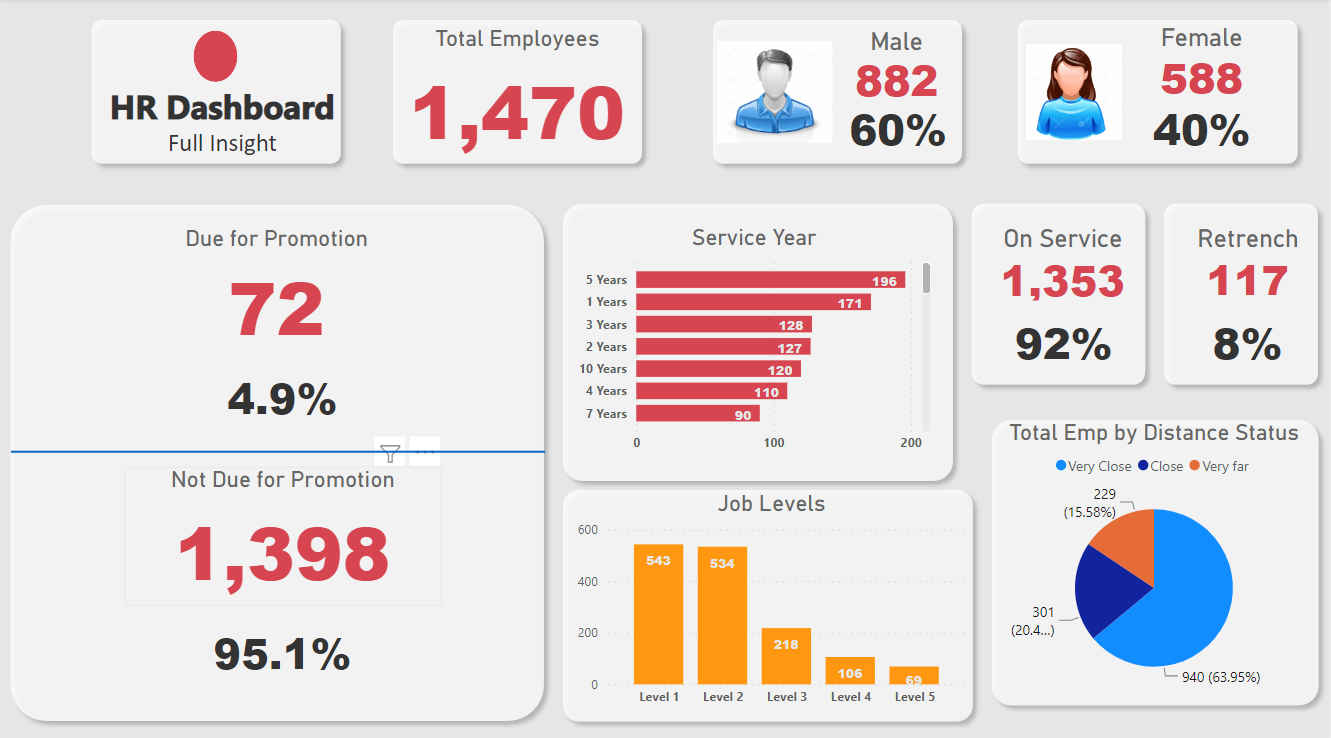

This screenshot's page, from the dashboard's own definition file:
{"tool":"powerbi","page":{"name":"Home","canvas":[1280,720],"ordinal":0},"visuals":[{"type":"shape","box":[78.4,12.1,258.1,156.8],"z":1000},{"type":"shape","box":[369,12.1,258.1,156.8],"z":2000},{"type":"shape","box":[677.8,12.1,258.1,156.8],"z":3000},{"type":"shape","box":[972.1,12.1,288.2,156.8],"z":4000},{"type":"shape","box":[0,190.6,533.1,516.2],"z":5000},{"type":"shape","box":[533.1,189.3,394.4,285.8],"z":6000},{"type":"shape","box":[533.1,465.5,413.7,241.2],"z":7000},{"type":"shape","box":[927.4,189.3,185.7,193],"z":8000},{"type":"shape","box":[946.3,398.3,333.7,293.9],"z":9000},{"type":"shape","box":[1113.2,189.3,166.4,193],"z":10000},{"type":"textbox","box":[90.5,77.2,246,82],"z":11000},{"type":"shape","box":[185.7,31.4,42.2,49.4],"z":12000},{"type":"card","title":"Total Employees","fields":{"Values":["All Measures.Total Emp"]},"box":[375.1,26.5,246,132.7],"z":13000},{"type":"card","title":"Male","fields":{"Values":["All Measures.Male"]},"box":[800.8,27.7,126.6,73.6],"z":14000},{"type":"card","title":"Male","fields":{"Values":["All Measures.%male"]},"box":[810.5,92.9,109.7,66.3],"z":15000},{"type":"card","title":"Female","fields":{"Values":["All Measures.Female"]},"box":[1095.1,24.1,126.6,77.2],"z":16000},{"type":"card","title":"Male","fields":{"Values":["All Measures.%female"]},"box":[1095.1,96.5,126.6,59.1],"z":17000},{"type":"image","box":[686.2,31.4,120.6,119.4],"z":18000},{"type":"image","box":[974.5,39.8,120.6,102.5],"z":19000},{"type":"card","title":"Male","fields":{"Values":["All Measures.%Due for promotion"]},"box":[185.7,332.9,172.5,104.9],"z":20000},{"type":"card","title":"Due for Promotion","fields":{"Values":["All Measures.Due for promotion"]},"box":[113.4,219.5,305.1,125.4],"z":21000},{"type":"card","title":"Not Due for Promotion","fields":{"Values":["All Measures.Not Due"]},"box":[119.4,452.3,305.1,133.9],"z":22000},{"type":"card","title":"Male","fields":{"Values":["All Measures.%Not due"]},"box":[185.7,569.2,172.5,123],"z":23000},{"type":"shape","box":[9.6,431.8,515,12.1],"z":24000},{"type":"barChart","title":"Service Year","fields":{"Category":["HR Analytics Data.Service Years"],"Y":["All Measures.Total Emp"]},"box":[551.2,218.3,351,229.1],"z":25000},{"type":"columnChart","title":"Job Levels","fields":{"Category":["HR Analytics Data.Job Levels"],"Y":["All Measures.Total Emp"]},"box":[551.2,475.2,384.7,217.1],"z":26000},{"type":"card","title":"On Service","fields":{"Values":["All Measures.On Service"]},"box":[949.1,218.3,141.1,78.4],"z":27000},{"type":"card","title":"Male","fields":{"Values":["All Measures.%on service"]},"box":[962.4,303.9,125.4,57.9],"z":28000},{"type":"card","title":"Retrench","fields":{"Values":["All Measures.Will be retreanched"]},"box":[1132.5,218.3,141.1,77.2],"z":29000},{"type":"card","title":"Male","fields":{"Values":["All Measures.%will be retreanched"]},"box":[1139.7,303.9,125.4,57.9],"z":30000},{"type":"pieChart","fields":{"Category":["HR Analytics Data.Distance Status"],"Y":["All Measures.Total Emp"]},"box":[962.4,406.4,300.3,272.6],"z":31000}]}

Visuals, with their boxes in screenshot pixels (x1, y1, x2, y2), scaled from the page's 1280x720 canvas onto the 1331x738 screenshot:
shape: 82:12:350:173
shape: 384:12:652:173
shape: 705:12:973:173
shape: 1011:12:1311:173
shape: 0:195:554:724
shape: 554:194:964:487
shape: 554:477:985:724
shape: 964:194:1157:392
shape: 984:408:1330:710
shape: 1158:194:1330:392
textbox: 94:79:350:163
shape: 193:32:237:83
"Total Employees" card: 390:27:646:163
"Male" card: 833:28:964:104
"Male" card: 843:95:957:163
"Female" card: 1139:25:1270:104
"Male" card: 1139:99:1270:159
image: 714:32:839:155
image: 1013:41:1139:146
"Male" card: 193:341:372:449
"Due for Promotion" card: 118:225:435:354
"Not Due for Promotion" card: 124:464:441:601
"Male" card: 193:583:372:710
shape: 10:443:546:455
"Service Year" barChart: 573:224:938:459
"Job Levels" columnChart: 573:487:973:710
"On Service" card: 987:224:1134:304
"Male" card: 1001:311:1131:371
"Retrench" card: 1178:224:1324:303
"Male" card: 1185:311:1316:371
pieChart - HR Analytics Data.Distance Status x All Measures.Total Emp: 1001:417:1313:696
